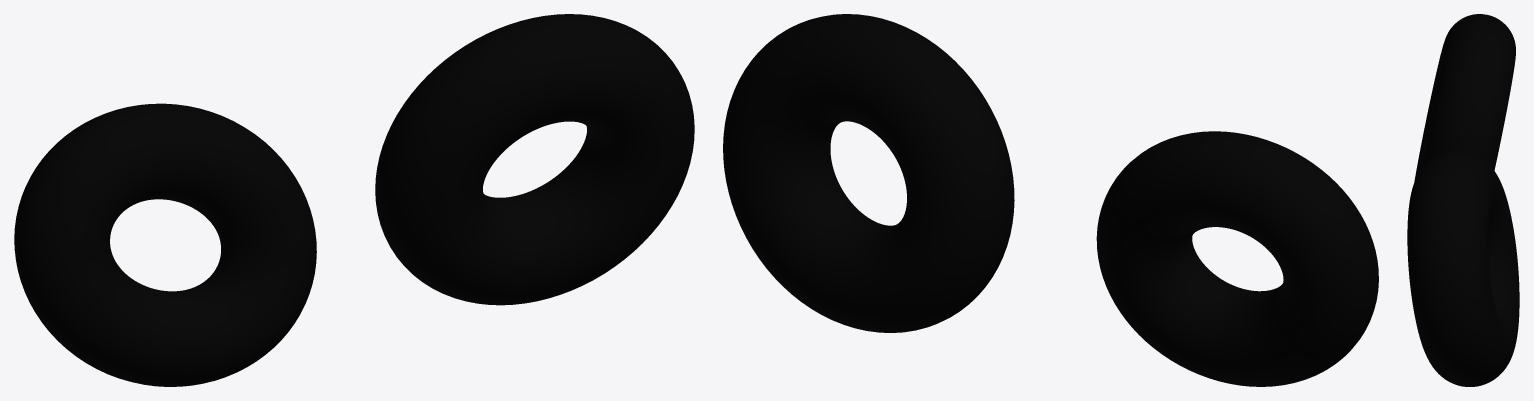
File: donitseja2.fbx
3 views of the same model, side by side, from view 1: azimuth 30°, elevation 25°; view 2: azimuth 150°, elevation 25°; view 3: azimuth 270°, elevation 25° (orthographic). The views are drawn at different scales.
Parts seen in each view (by area): view 1: root (×2); view 2: root (×2); view 3: root (×2).
Part boxes in pixels (x1=…): root (×2): x1=14, y1=14, x2=694, y2=386; root (×2): x1=723, y1=14, x2=1378, y2=386; root (×2): x1=1407, y1=14, x2=1519, y2=386.
Size of the model in its own units: 1.1 by 0.46 by 0.2177.
2 materials, 2 textured.
